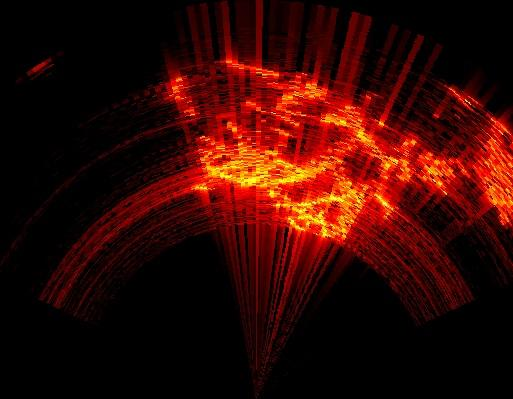shipwreck: (200, 106, 512, 239), (243, 73, 327, 127), (226, 61, 276, 87), (171, 77, 198, 116), (222, 117, 248, 144)
